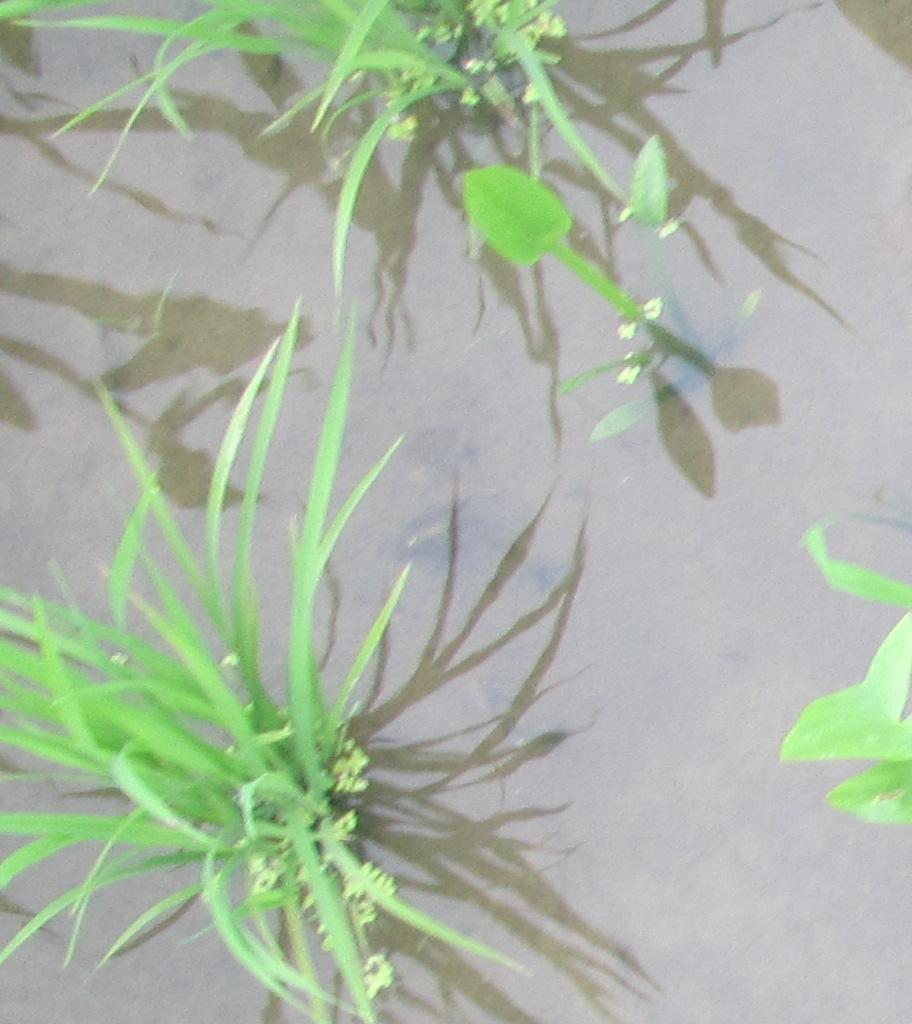Weed: (782, 600, 912, 832), (449, 157, 580, 275)
